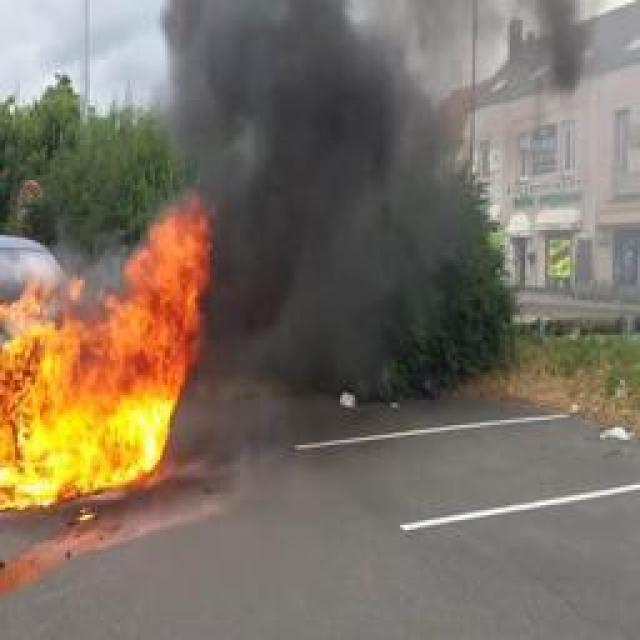Fire: (0, 190, 212, 510)
